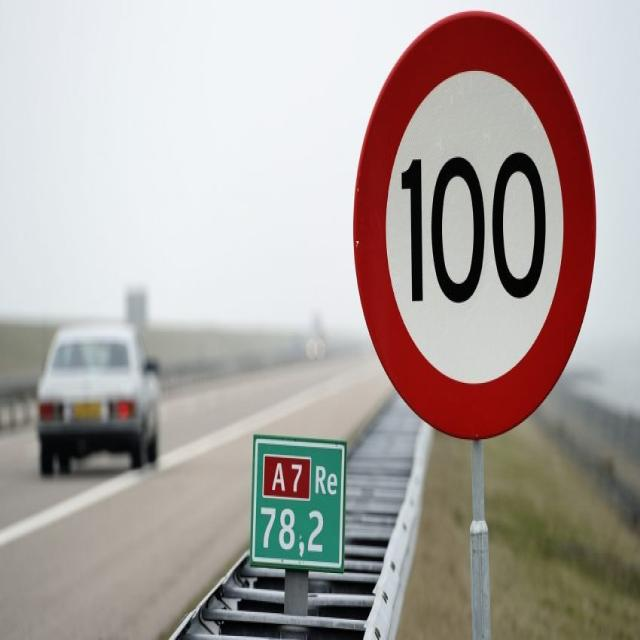Speed Limit -100-: (400, 149, 547, 305)
